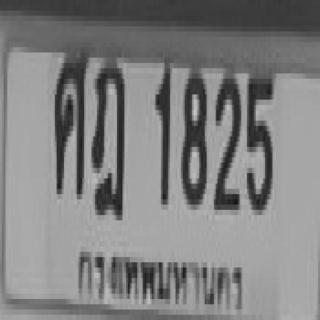A14: (90, 58, 124, 215)
A38: (54, 47, 87, 194)
N01: (154, 60, 170, 202)
N02: (212, 71, 240, 207)
N05: (245, 68, 272, 210)
N08: (179, 68, 205, 205)
P04: (70, 241, 246, 319)
